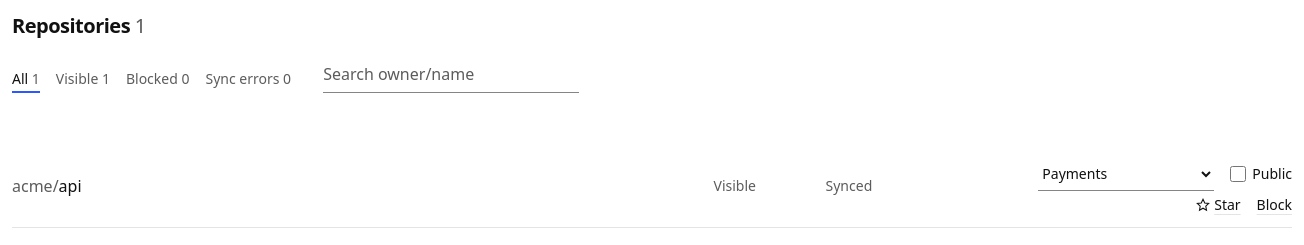
RepoAccessManager › folder control (optional) › keeps the old folder and shows the error when the change fails
Select "Ops" in the dropdown named "Folder for acme/api" at (1126, 174), box x1=1038 y1=157 x2=1214 y2=191
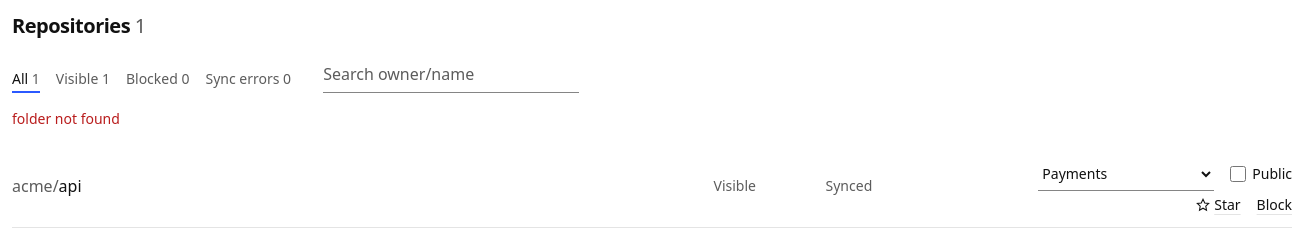
Result: the text "folder not found" is shown at x1=12 y1=109 x2=120 y2=128
